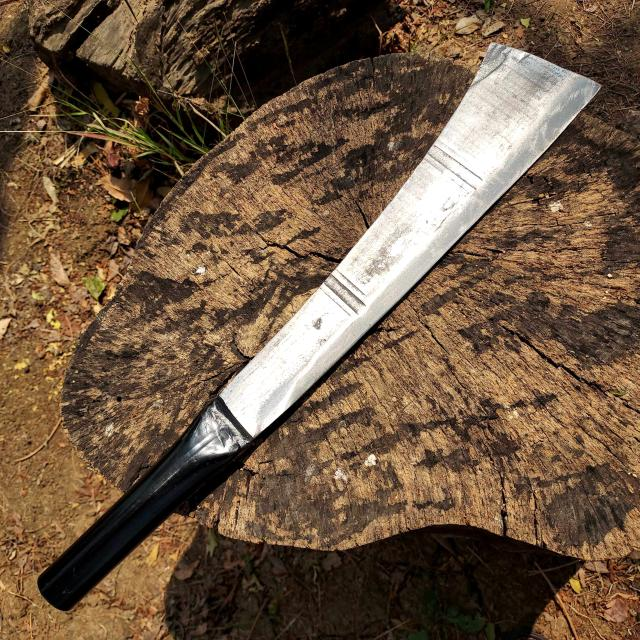eto: (34, 39, 606, 617)
